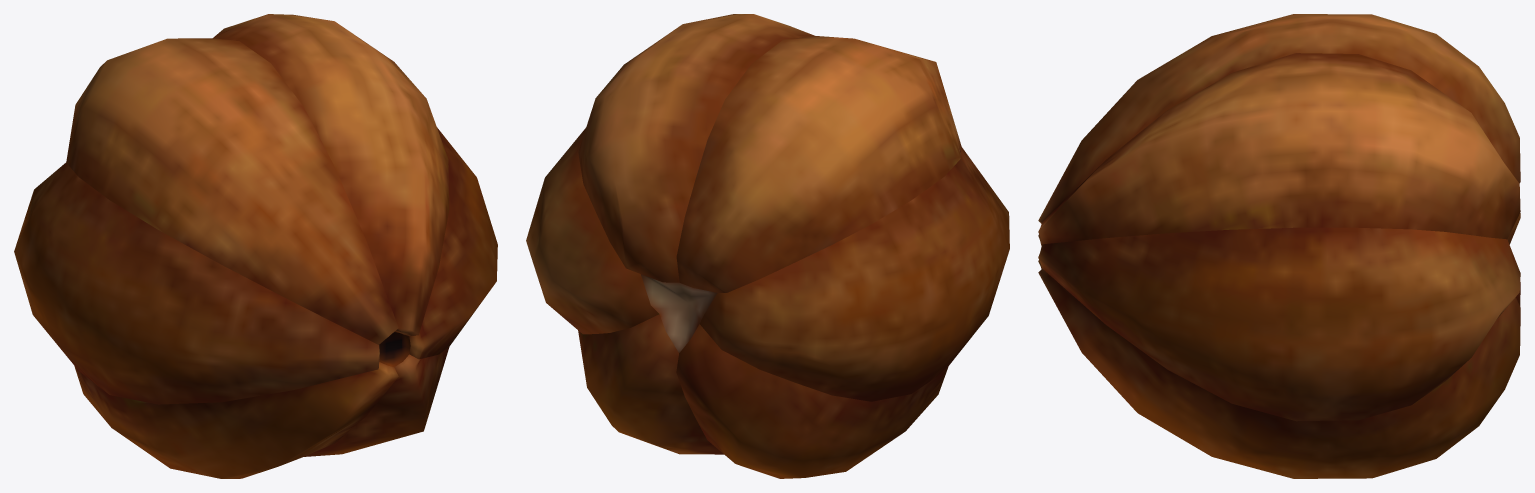
File: nut.fbx
3 renders of one model, left to right at view 1: azimuth 30°, elevation 25°; view 2: azimuth 150°, elevation 25°; view 3: azimuth 270°, elevation 25°, orthographic.
Parts seen in each view (by area): view 1: TotakekeCoconut__MI_TotakekeCoconut_01.005; view 2: TotakekeCoconut__MI_TotakekeCoconut_01.005; view 3: TotakekeCoconut__MI_TotakekeCoconut_01.005.
Boxes of the visible parts, box(x1,y1,x2,y2) form: TotakekeCoconut__MI_TotakekeCoconut_01.005: box(14, 14, 497, 478); TotakekeCoconut__MI_TotakekeCoconut_01.005: box(526, 14, 1009, 478); TotakekeCoconut__MI_TotakekeCoconut_01.005: box(1038, 14, 1520, 478).
Bounding box in the file's own units: 0.1718 × 0.163 × 0.1776.
